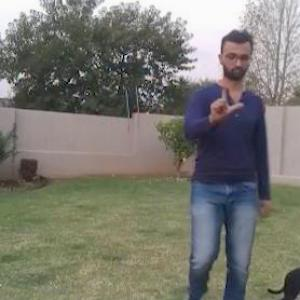land_hand: (205, 77, 242, 122)
